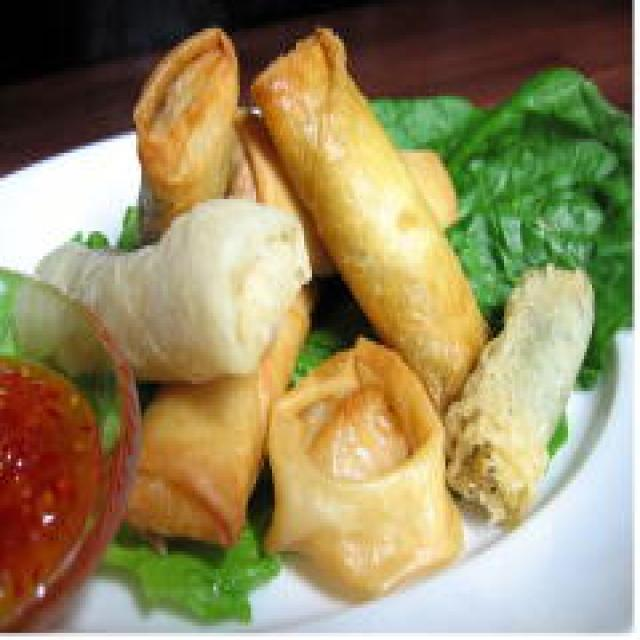鸡蛋料理: (0, 0, 624, 619)
